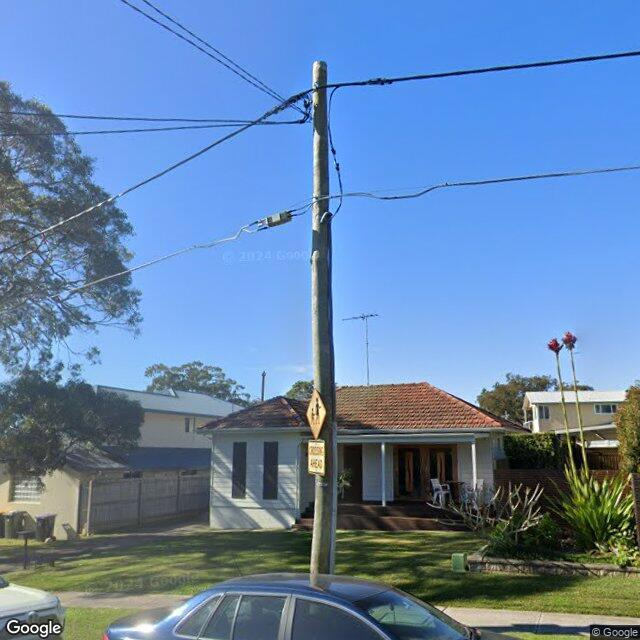timber-pole: (311, 61, 339, 570)
